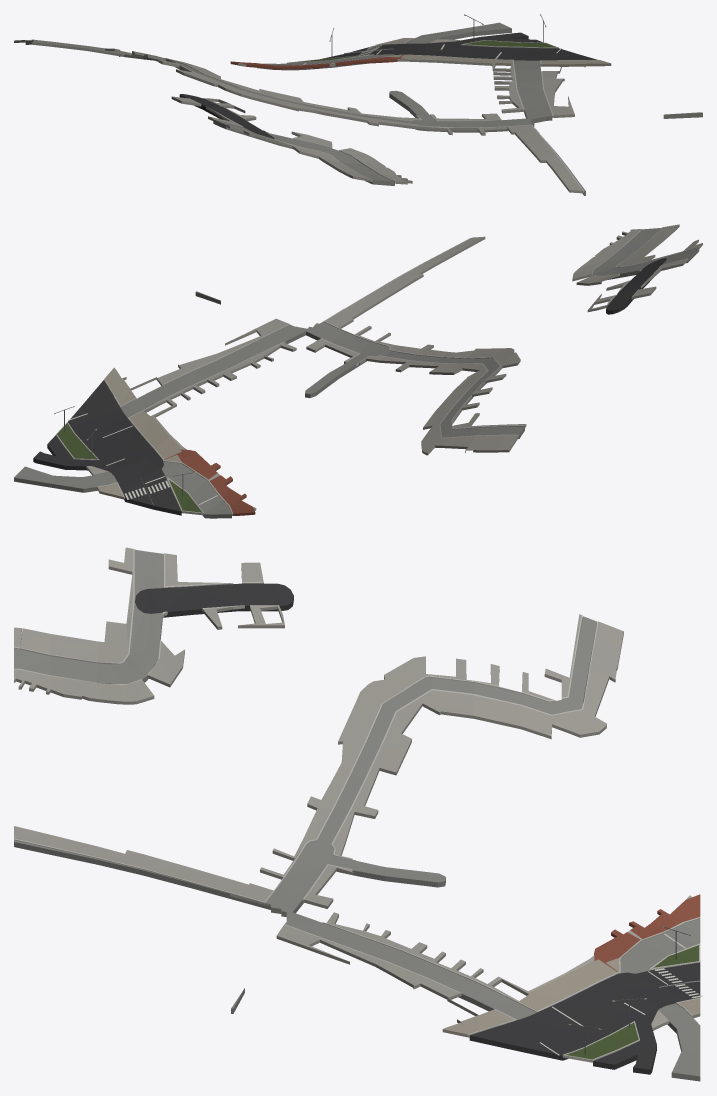
The model's file is 18-218886-118950.dddd8915.glb.
3 views of the same model, one above another, from view 1: azimuth 30°, elevation 25°; view 2: azimuth 150°, elevation 25°; view 3: azimuth 270°, elevation 25° (orthographic). The views are drawn at different scales.
Bounding box in the file's own units: 147 × 56.79 × 146.
